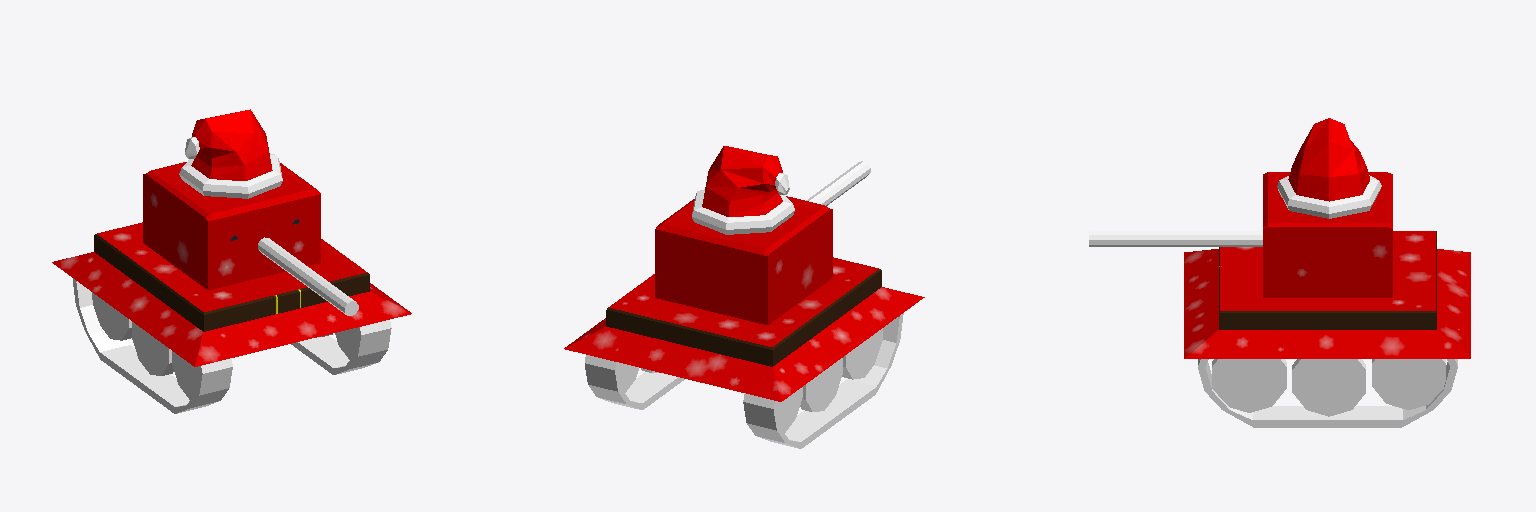
3 views of the same model, side by side, from view 1: azimuth 30°, elevation 25°; view 2: azimuth 150°, elevation 25°; view 3: azimuth 270°, elevation 25° (orthographic).
Parts seen in each view (by area): view 1: navitanque:pCylinder47; view 2: navitanque:pCylinder47; view 3: navitanque:pCylinder47.
Part boxes in pixels (left/top/right/bottom): navitanque:pCylinder47: left=52, top=109, right=411, bottom=413; navitanque:pCylinder47: left=564, top=146, right=924, bottom=448; navitanque:pCylinder47: left=1089, top=118, right=1470, bottom=427.
Size of the model in its own units: 5.98 by 6.57 by 9.09.
8 materials, 2 textured.